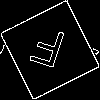F: (25, 25, 68, 78)
